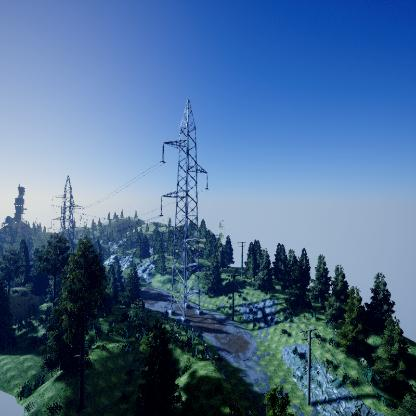tower: (154, 94, 214, 322), (49, 173, 88, 248)
